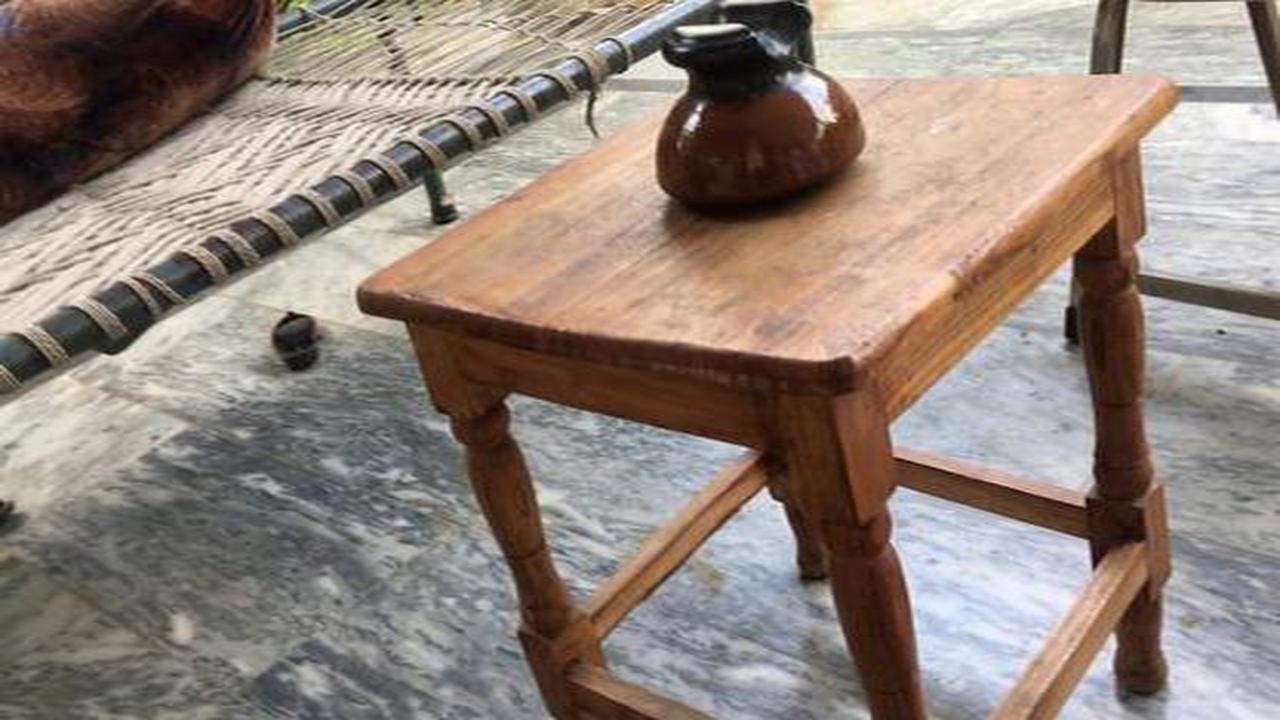insulator_pin: (631, 4, 874, 238)
